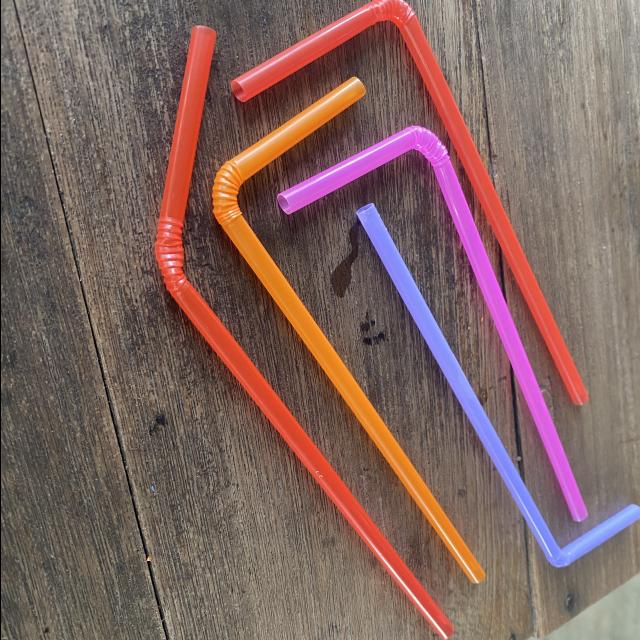plastik: (154, 26, 453, 640), (230, 0, 587, 405), (212, 77, 483, 584), (277, 126, 586, 521), (357, 204, 640, 568)
